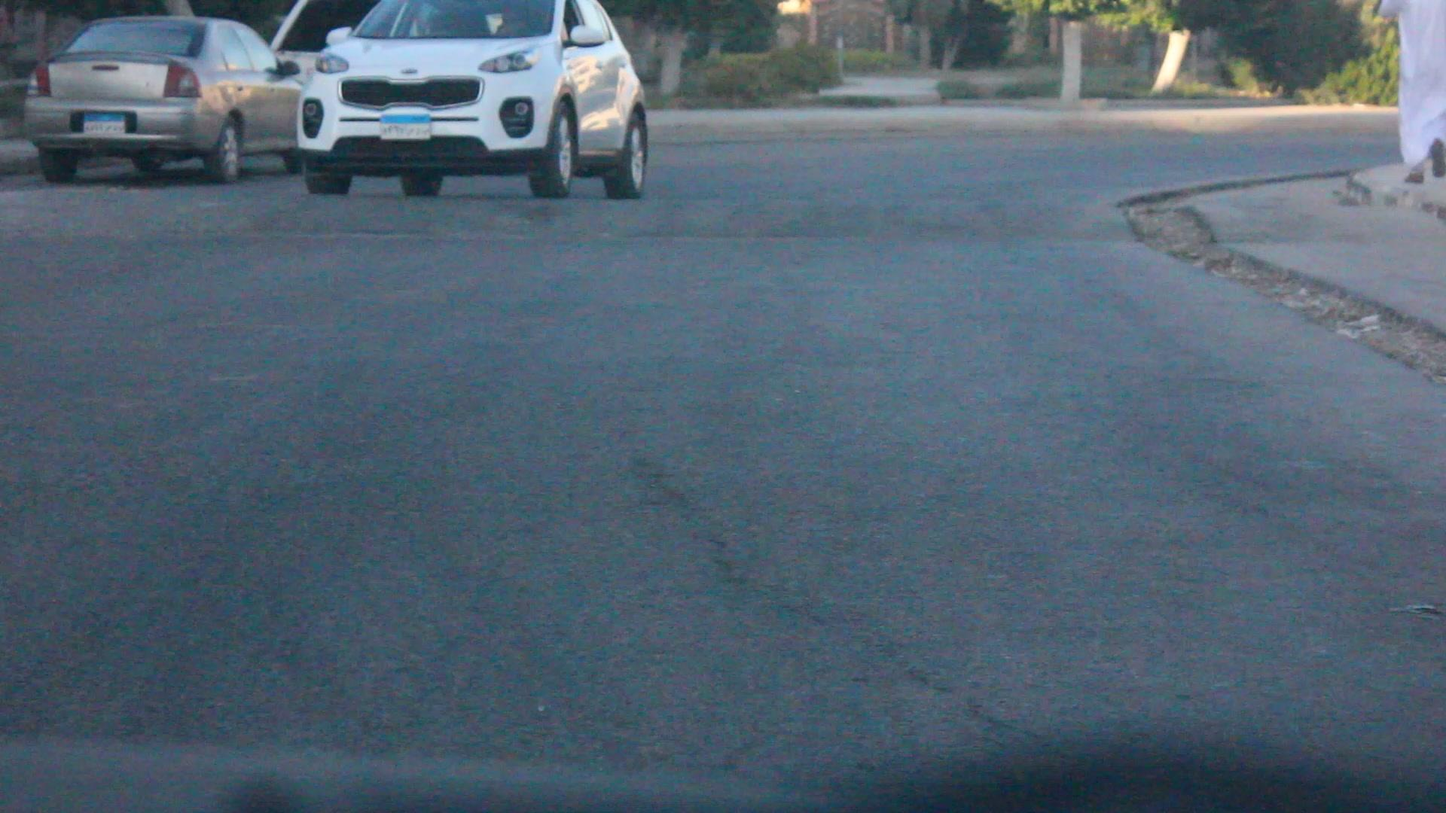Bump: (13, 177, 1141, 239)
